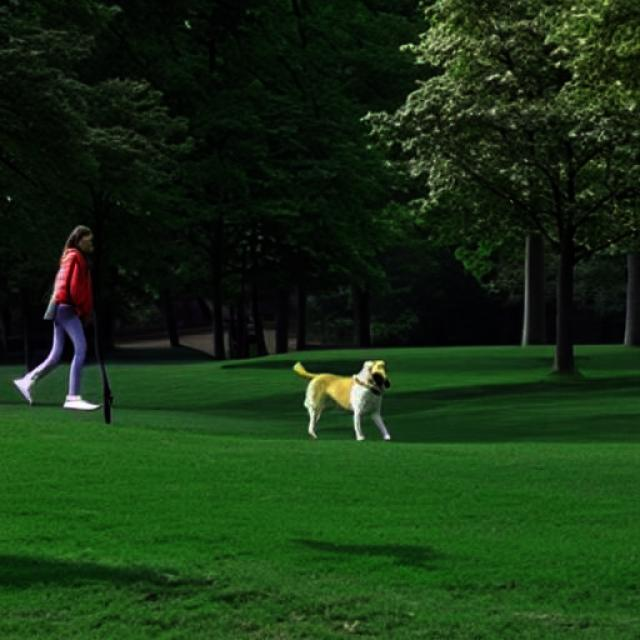Unleashed_Dog: (54, 307, 392, 442)
